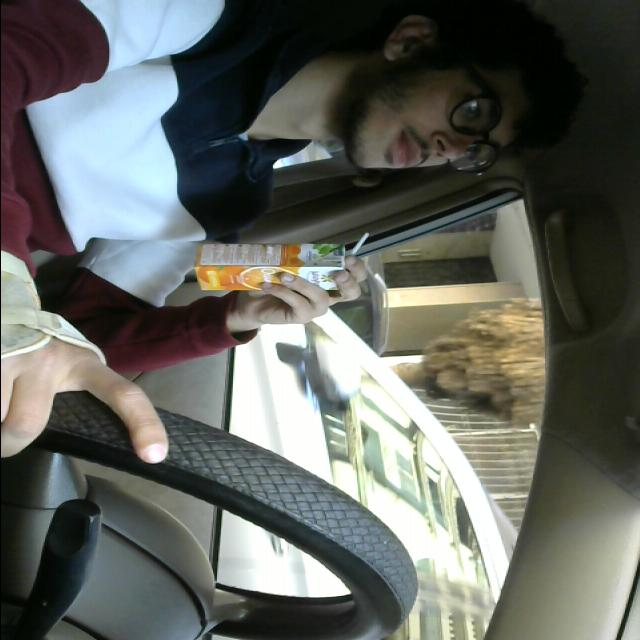drinking: (194, 228, 380, 294)
